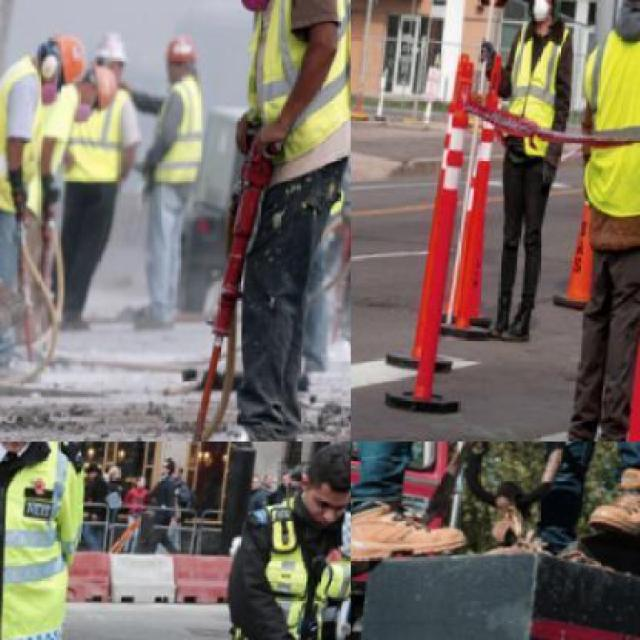Vest: (0, 442, 106, 638), (245, 0, 349, 183), (245, 498, 349, 638), (570, 16, 638, 230), (498, 17, 574, 169), (0, 35, 55, 213), (60, 81, 138, 194), (143, 80, 208, 194)
